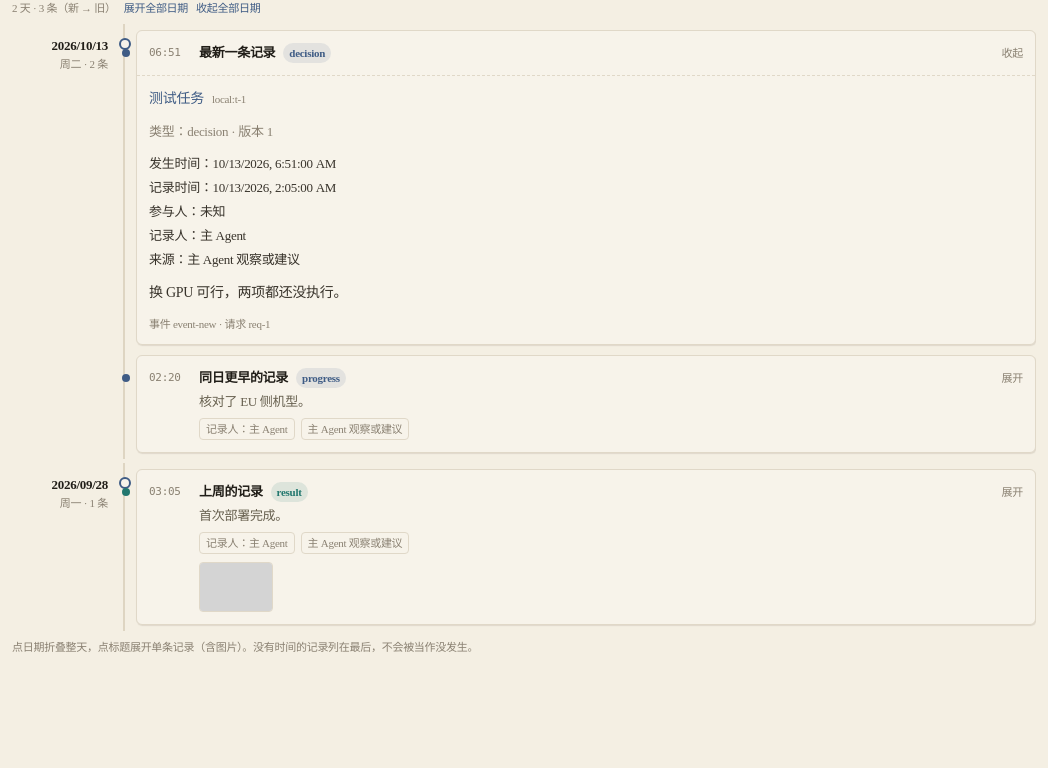
Test: 事件时间线展开与折叠 › 默认只展开最新一条，其余显示摘要，点开才显示完整字段与图片
Expected: the element with id "timeline-body-event-new" is shown, [137,75,1035,344]
Expected: the text "事件 event-new · 请求 req-1" is shown, [149,318,270,330]
What coordinates should you click on to do the following:
click the button "03:05 上周的记录 result 首次部署完成。 记录人：主 Agent 主 Agent 观察或建议 展开"
I would click on:
 (165, 492)
Its box is [137,470,1035,624].
(page scrolled)
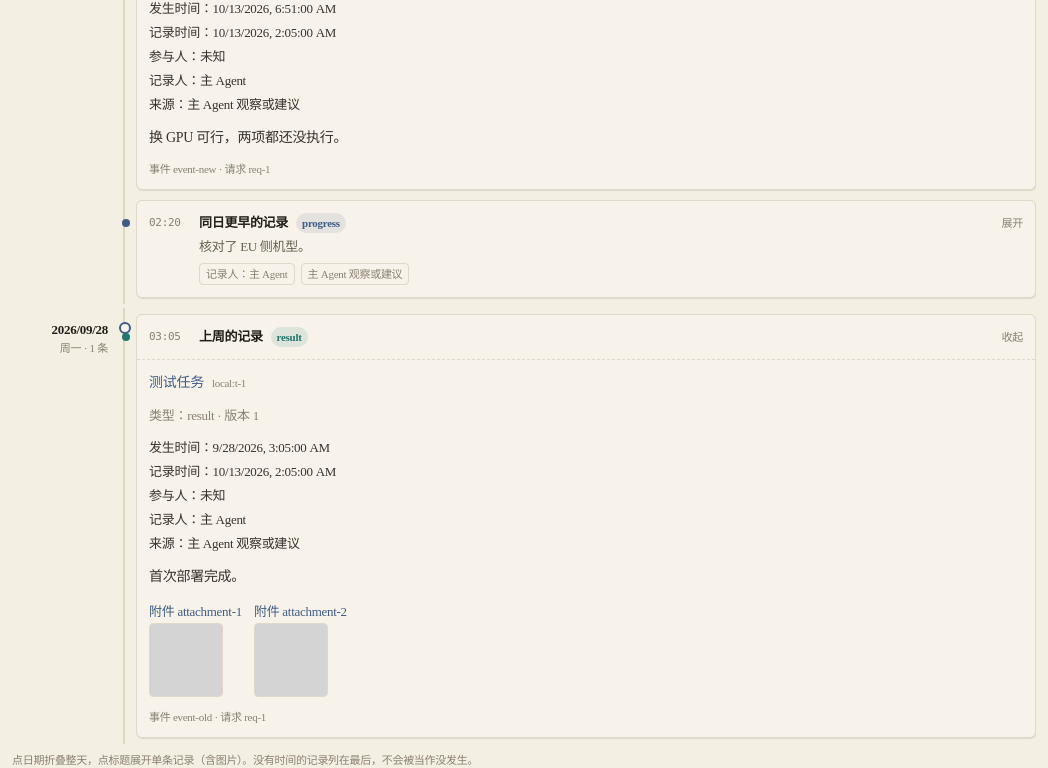
Expected: the text "事件 event-old · 请求 req-1" is shown, [149,711,266,723]
